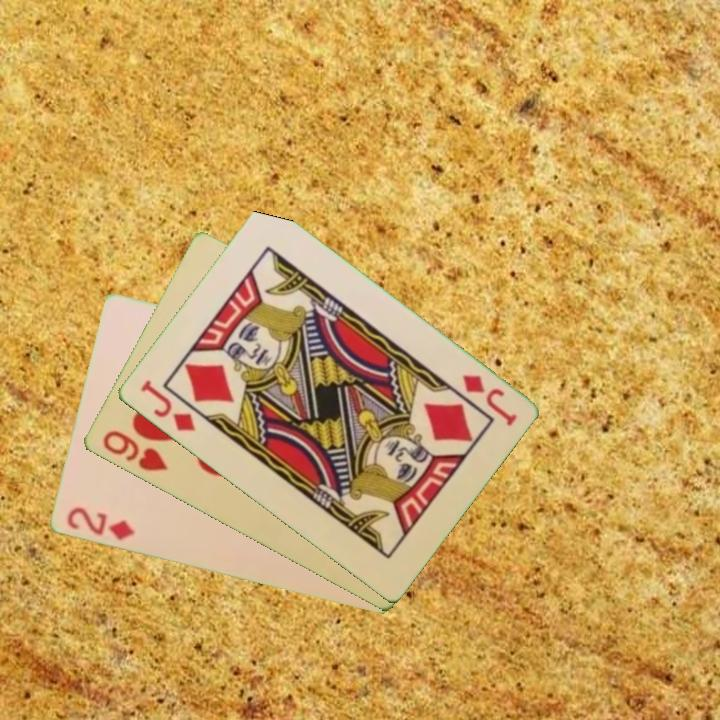2d: (63, 504, 137, 544)
9h: (98, 427, 171, 475)
Jd: (136, 376, 198, 435), (458, 371, 520, 429)
